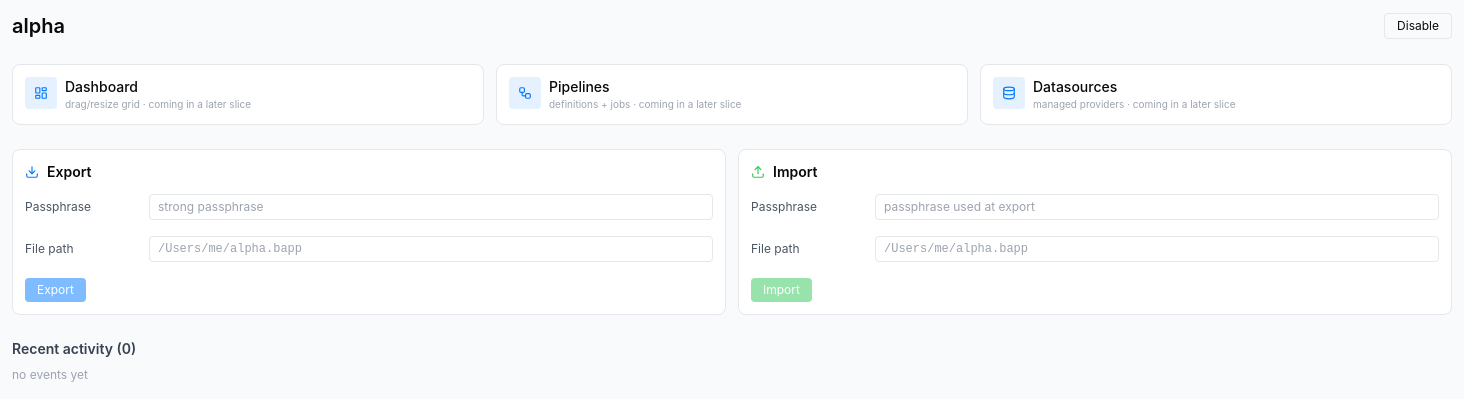
Test: <ApplicationOverview> import/export › Export button surfaces a success message after a successful export
The image size is (1464, 399).
Step 1. Type "secret1" into the password field labelled "strong passphrase" → (431, 206), box [149, 194, 713, 220]
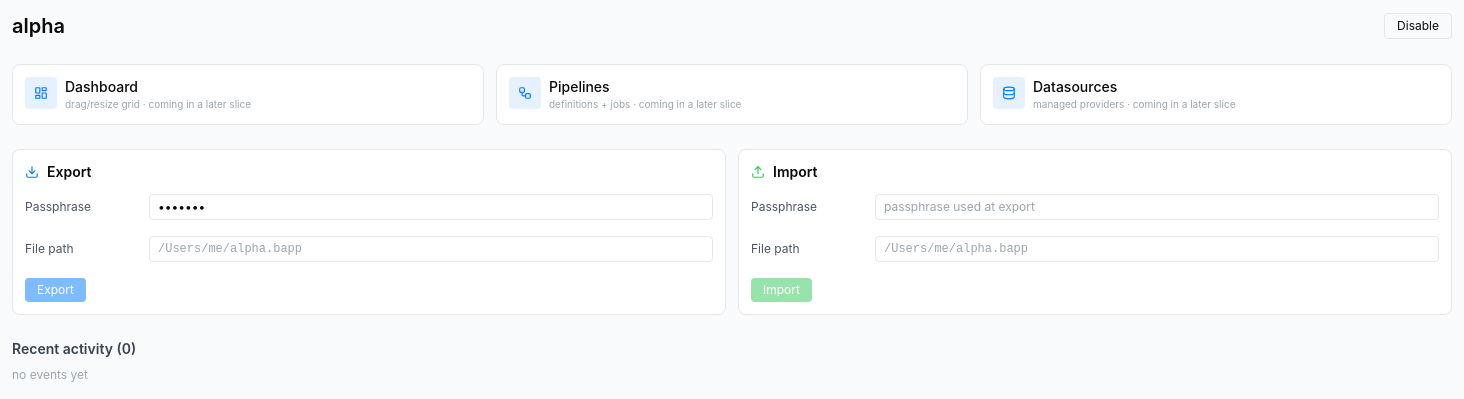
Step 2. Type "/tmp/a.bapp" into the field named "file path" → (431, 248), box [149, 236, 713, 262]
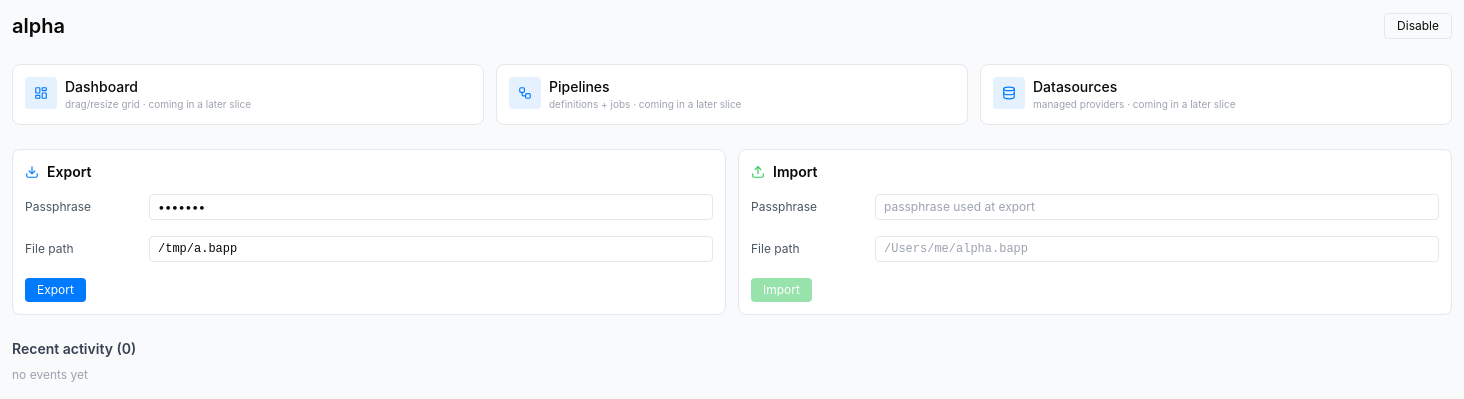
Step 3. Click the button "Export" → (55, 290), box [25, 278, 86, 302]
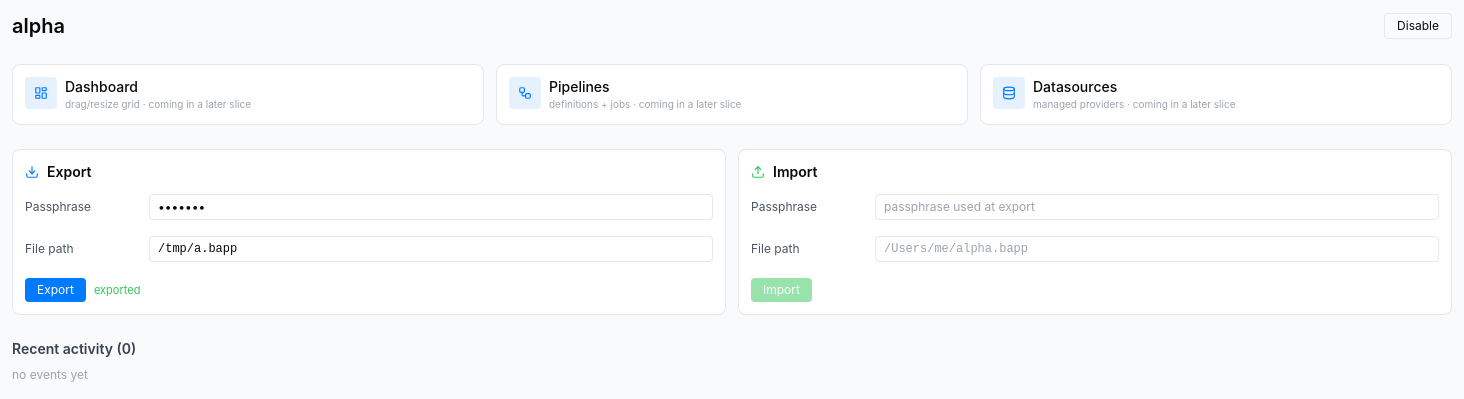
Expected: the text "exported" is shown, [94, 282, 140, 298]
